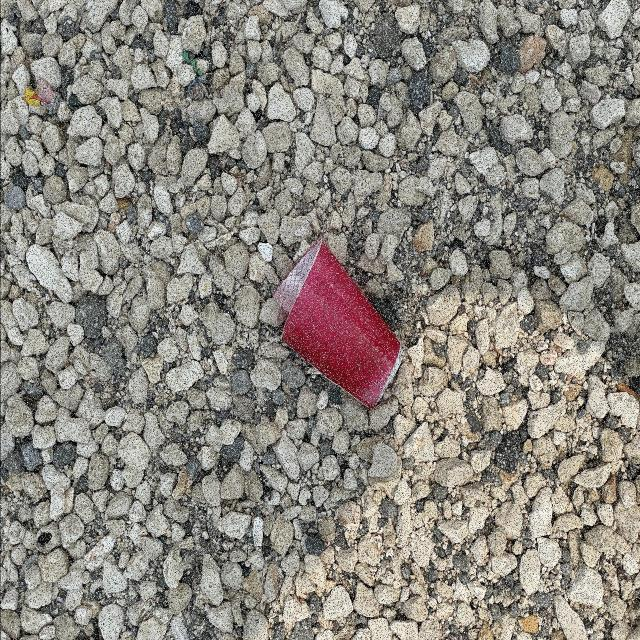plastic_waste: (267, 240, 401, 411), (24, 86, 57, 117)
